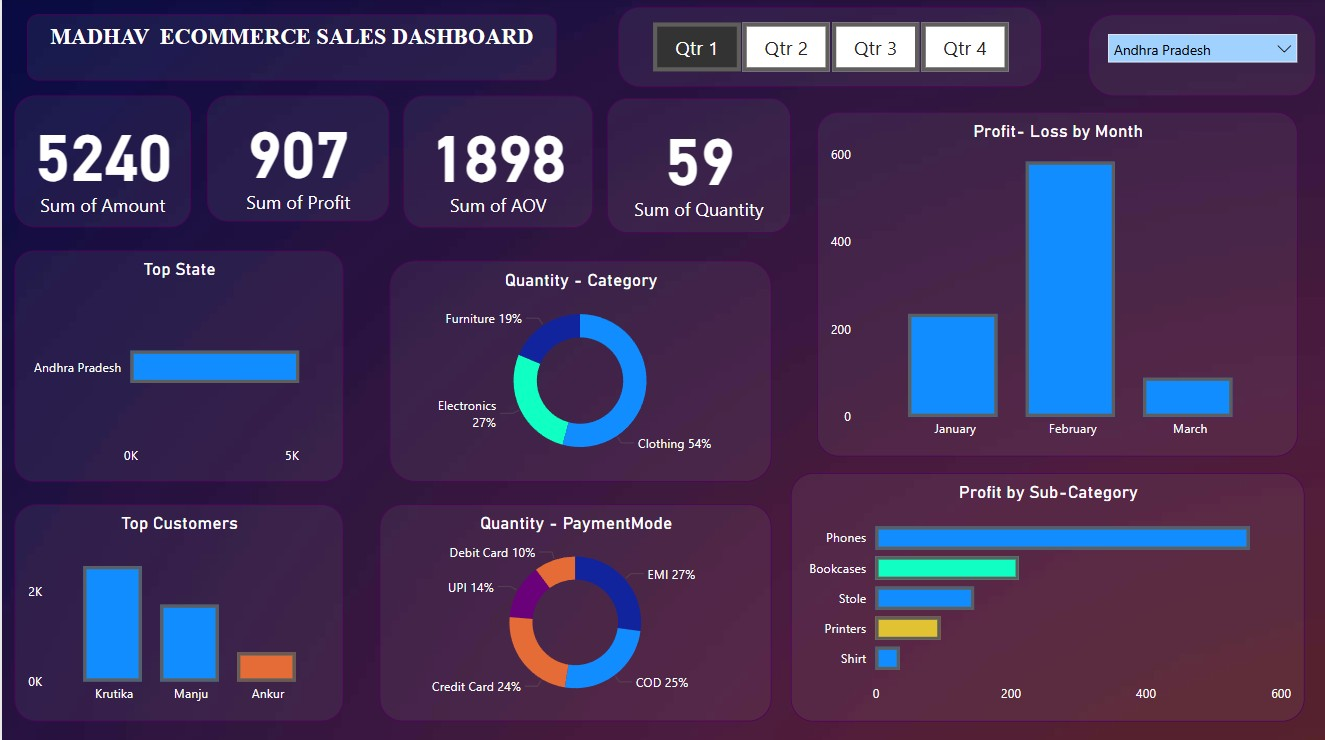

The page's visual inventory and layout, read from the dashboard file:
{"tool":"powerbi","page":{"name":"Page 1","canvas":[1280,720],"ordinal":0},"visuals":[{"type":"textbox","box":[23.6,15.2,511.3,63.7],"z":0},{"type":"columnChart","title":"Profit- Loss by Month","fields":{"Category":["Orders.Order Date.Variation.Date Hierarchy.Month"],"Y":["Details.Profit"]},"box":[787,109.5,464.2,332.5],"z":1000},{"type":"clusteredBarChart","title":"Profit by Sub-Category","fields":{"Category":["Details.Sub-Category"],"Y":["Details.Profit"]},"box":[760.7,458.6,496,239.7],"z":2000},{"type":"donutChart","title":"Quantity - Category","fields":{"Category":["Details.Category"],"Y":["Details.Quantity"]},"box":[374.1,253.6,368.6,213.4],"z":3000},{"type":"donutChart","title":"Quantity - PaymentMode","fields":{"Category":["Details.PaymentMode","Details.Category"],"Y":["Details.Quantity"]},"box":[364.4,489.1,378.3,209.2],"z":4000},{"type":"card","fields":{"Values":["Details.Amount"]},"box":[12.5,94.2,170.4,127.5],"z":5000},{"type":"clusteredBarChart","title":"Top State","fields":{"Category":["Orders.State"],"Y":["Details.Amount"]},"box":[12.5,243.9,317.3,223.1],"z":6000},{"type":"card","fields":{"Values":["Details.Profit"]},"box":[197.9,94.1,176.1,121.9],"z":7000},{"type":"card","fields":{"Values":["Details.AOV"]},"box":[387.3,94.1,183.4,127.9],"z":8000},{"type":"card","fields":{"Values":["Details.Quantity"]},"box":[583.3,97,177.4,130.2],"z":9000},{"type":"slicer","fields":{"Values":["Orders.Order Date.Variation.Date Hierarchy.Quarter"]},"box":[594.4,8.3,408.7,77.6],"z":10000},{"type":"slicer","fields":{"Values":["Orders.State"]},"box":[1048.9,15.2,220.3,79],"z":11000},{"type":"clusteredColumnChart","title":"Top Customers","fields":{"Category":["Orders.CustomerName"],"Y":["Details.Amount"]},"box":[12.5,489.1,317.3,209.2],"z":12000}]}

Visuals, with their boxes in screenshot pixels (x1, y1, x2, y2), scaled from the page's 1280x720 canvas onto the 1325x740 screenshot:
textbox: [24, 16, 554, 81]
"Profit- Loss by Month" columnChart: [815, 113, 1295, 454]
"Profit by Sub-Category" clusteredBarChart: [787, 471, 1301, 718]
"Quantity - Category" donutChart: [387, 261, 769, 480]
"Quantity - PaymentMode" donutChart: [377, 503, 769, 718]
card - Details.Amount: [13, 97, 189, 228]
"Top State" clusteredBarChart: [13, 251, 341, 480]
card - Details.Profit: [205, 97, 387, 222]
card - Details.AOV: [401, 97, 591, 228]
card - Details.Quantity: [604, 100, 787, 234]
slicer - Orders.Order Date.Variation.Date Hierarchy.Quarter: [615, 9, 1038, 88]
slicer - Orders.State: [1086, 16, 1314, 97]
"Top Customers" clusteredColumnChart: [13, 503, 341, 718]
